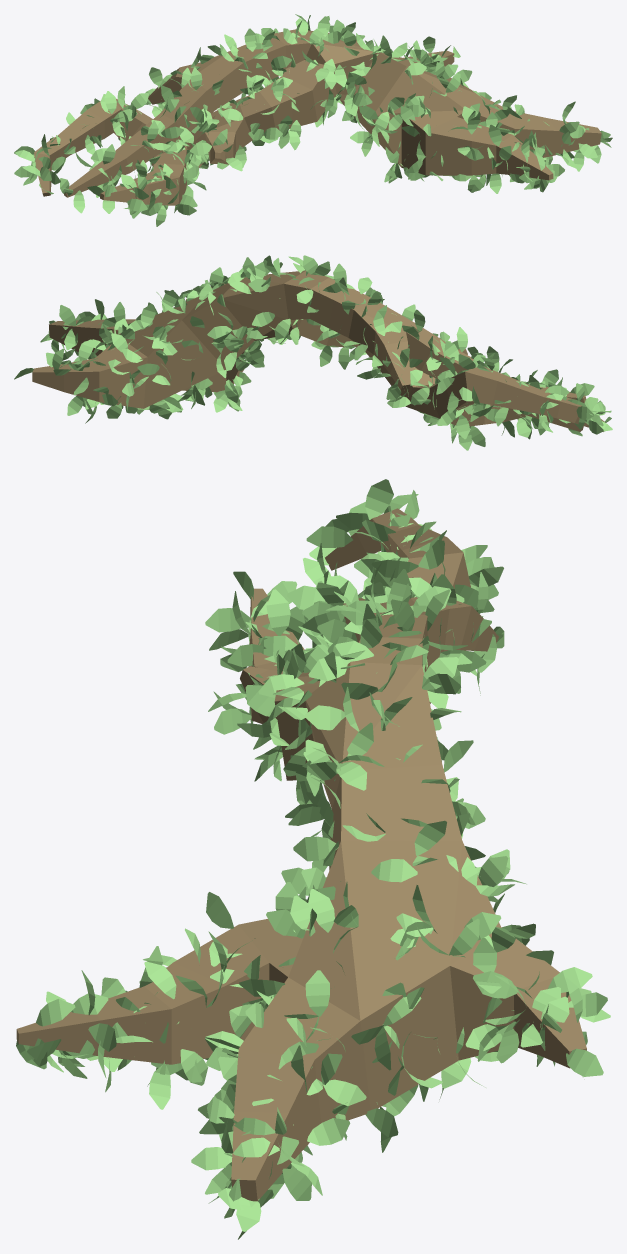
File: bridge08.fbx
3 renders of one model, top to bottom at view 1: azimuth 30°, elevation 25°; view 2: azimuth 150°, elevation 25°; view 3: azimuth 270°, elevation 25°, orthographic. The views are drawn at different scales.
Parts seen in each view (by area): view 1: Tree3; view 2: Tree3; view 3: Tree3.
Part boxes in pixels (bbox=[...]): Tree3: bbox=[34, 29, 601, 205]; Tree3: bbox=[32, 270, 604, 431]; Tree3: bbox=[16, 508, 586, 1201].
Bounding box in the file's own units: 1927 × 602 × 889.
